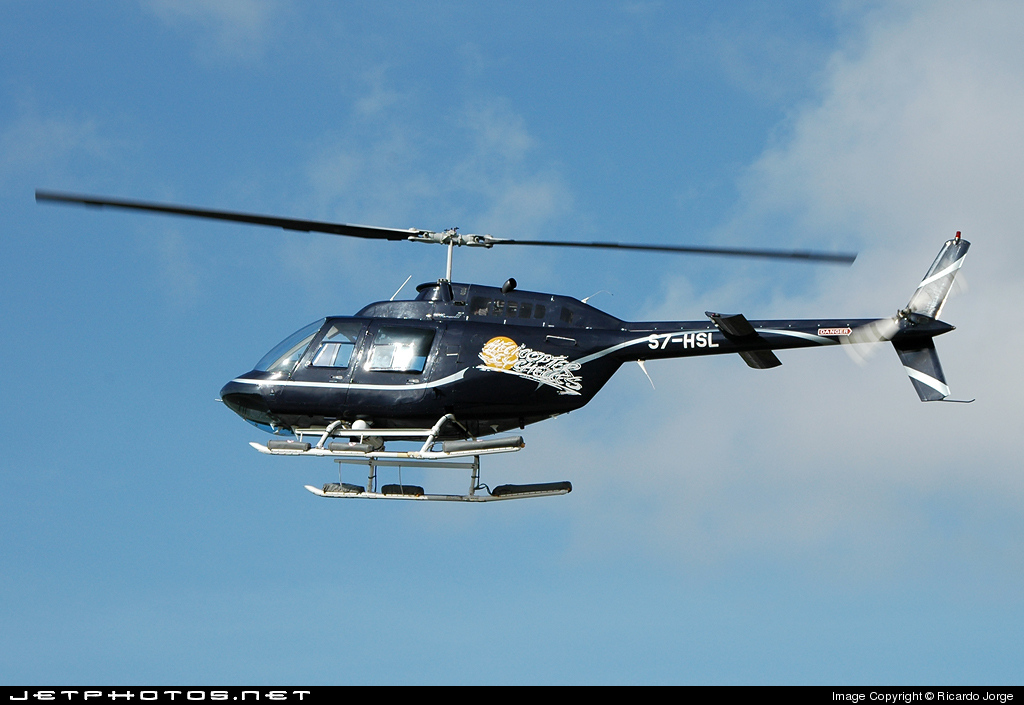number: (642, 330, 723, 355)
